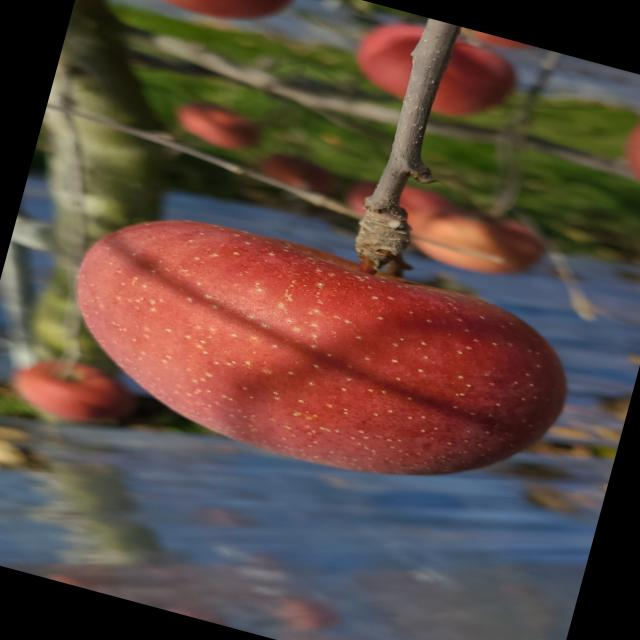fresh: (21, 179, 598, 537)
